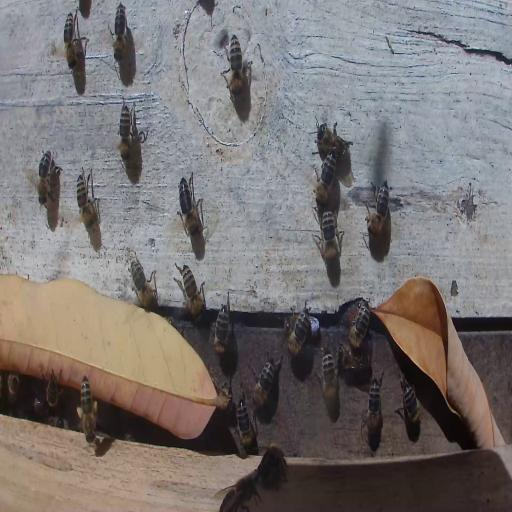nonpollenbee: (174, 265, 206, 320), (177, 172, 203, 236), (316, 120, 352, 165), (129, 256, 159, 310), (316, 207, 343, 267), (76, 166, 100, 230), (364, 180, 391, 236), (256, 444, 288, 489), (250, 356, 276, 411), (225, 33, 246, 100), (399, 376, 424, 432), (285, 304, 311, 357), (320, 348, 341, 413), (363, 378, 384, 443), (235, 394, 256, 456), (218, 475, 254, 511), (314, 150, 337, 205), (338, 345, 372, 378), (346, 302, 370, 348), (212, 298, 230, 356), (112, 2, 126, 60), (119, 100, 132, 160), (37, 152, 51, 205), (64, 11, 76, 72), (6, 370, 20, 408), (46, 374, 59, 410), (32, 394, 47, 420)
pollenbee: (77, 376, 99, 446)
